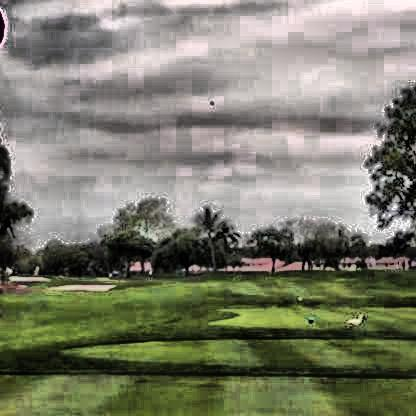golfball: (206, 98, 211, 103)
